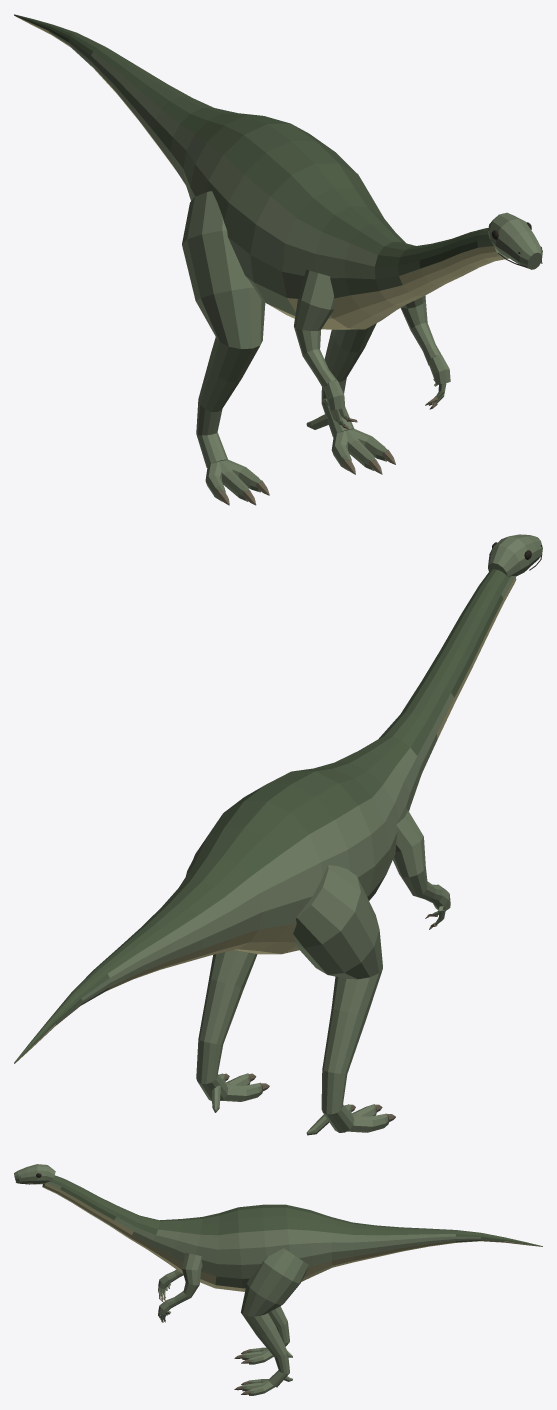
3 renders of one model, top to bottom at view 1: azimuth 30°, elevation 25°; view 2: azimuth 150°, elevation 25°; view 3: azimuth 270°, elevation 25°, orthographic. The views are drawn at different scales.
Parts seen in each view (by area): view 1: axial-body-neck-tail, right-hindlimb-and-foot, left-hindlimb-and-foot, right-short-forelimb-inward-hand, small-boxlike-skull, left-short-forelimb-inward-hand, keratin-digit-tips; view 2: axial-body-neck-tail, right-hindlimb-and-foot, left-hindlimb-and-foot, right-short-forelimb-inward-hand, small-boxlike-skull; view 3: axial-body-neck-tail, left-hindlimb-and-foot, left-short-forelimb-inward-hand, right-hindlimb-and-foot, small-boxlike-skull, right-short-forelimb-inward-hand.
Part boxes in pixels (x1,y1,x2,y2): axial-body-neck-tail: (14,14,508,329); right-hindlimb-and-foot: (182,191,265,501); left-hindlimb-and-foot: (306,323,387,470); right-short-forelimb-inward-hand: (294,270,348,426); small-boxlike-skull: (488,212,542,269); left-short-forelimb-inward-hand: (400,295,450,403); keratin-digit-tips: (216,396,437,505); axial-body-neck-tail: (14,569,516,1063); right-hindlimb-and-foot: (293,865,388,1135); left-hindlimb-and-foot: (185,862,262,1112); right-short-forelimb-inward-hand: (393,807,450,925); small-boxlike-skull: (488,534,542,576); axial-body-neck-tail: (42,1175,542,1291); left-hindlimb-and-foot: (241,1248,308,1395); left-short-forelimb-inward-hand: (158,1252,202,1321); right-hindlimb-and-foot: (242,1306,292,1364); small-boxlike-skull: (14,1164,55,1184); right-short-forelimb-inward-hand: (158,1269,183,1297).
Bounding box in the file's own units: 0.7705 × 1.76 × 4.01.
